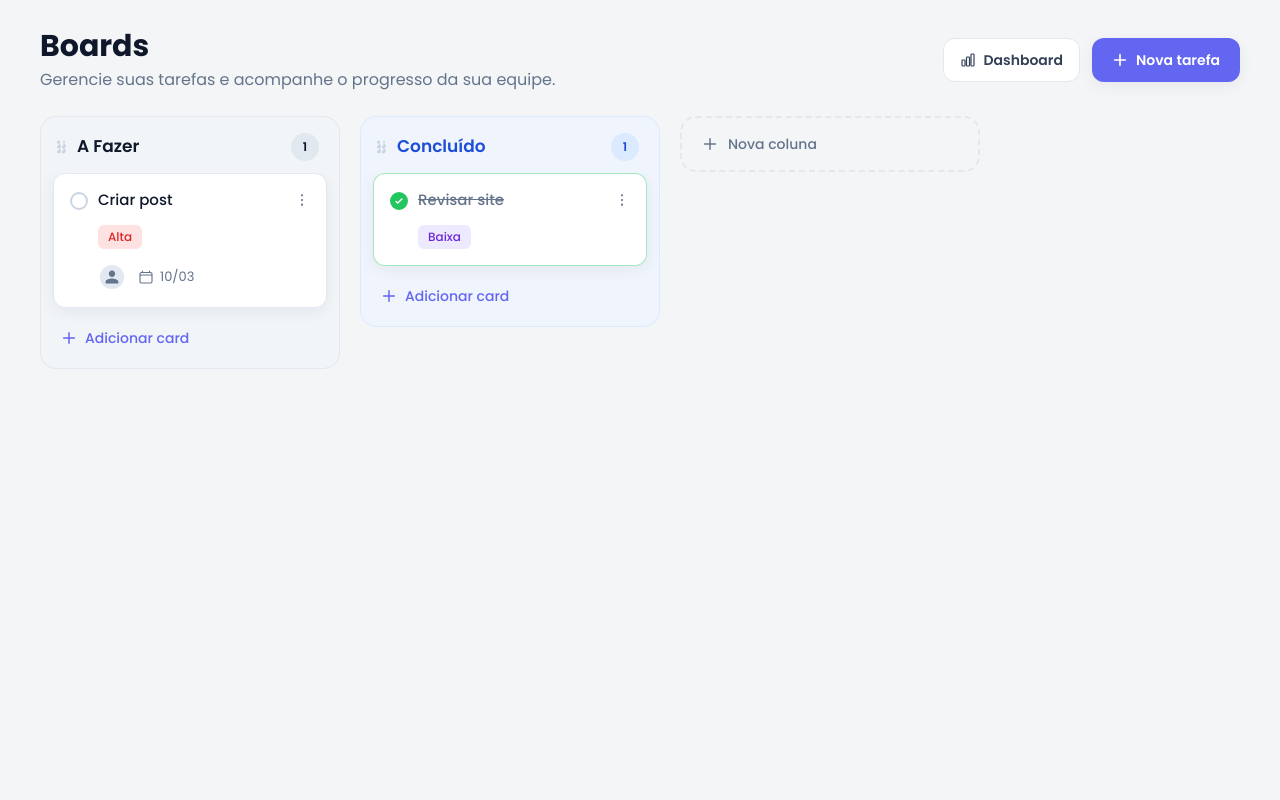
Test: Tarefas › cards › exige o título ao criar um card
Expected: the heading "A Fazer" is shown, 77,134 -> 139,158
Step 1. Click the button "Adicionar card" below "10/03" → click(190, 338), box 53,320 -> 327,356
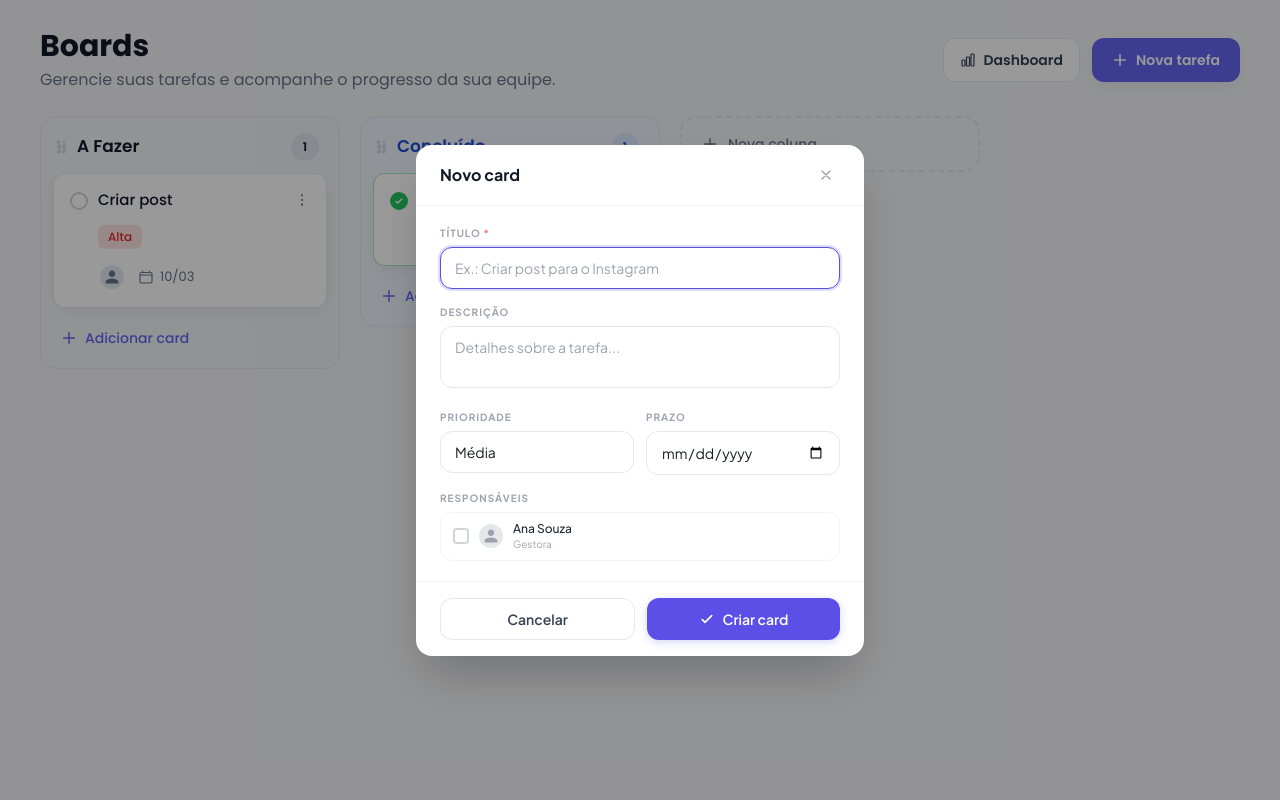
Step 2. Click the button "Criar card" → click(744, 618), box 647,598 -> 840,640
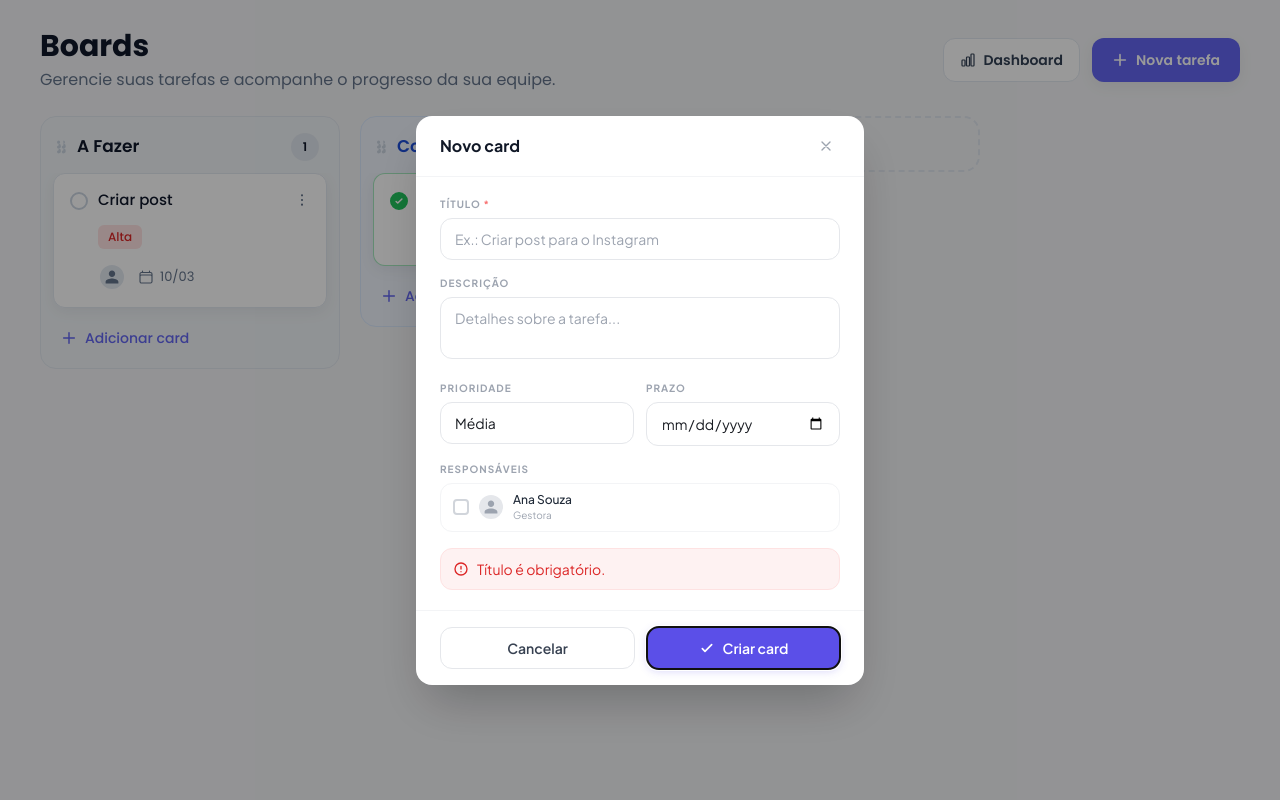
Now the text "Título é obrigatório." is shown, box 440,548 -> 840,590
